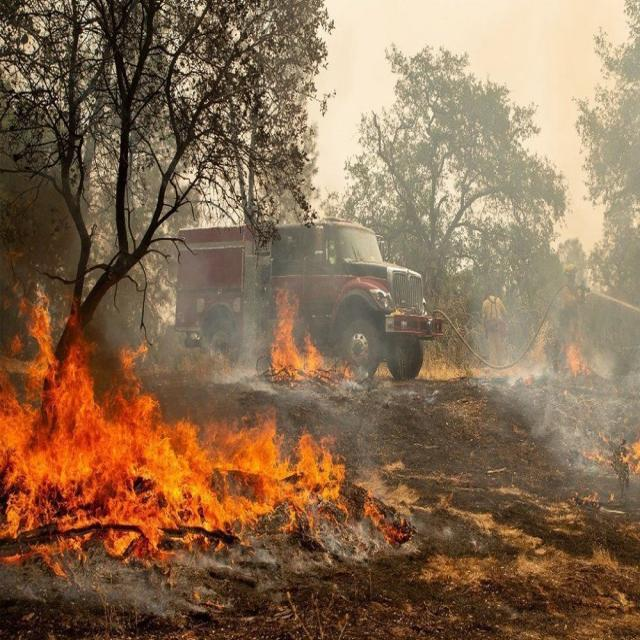Fire: (2, 294, 358, 562), (270, 284, 355, 384), (122, 330, 156, 375), (280, 507, 300, 534), (332, 503, 354, 526), (261, 414, 280, 436), (23, 358, 31, 397), (140, 332, 148, 356)
Smoke: (490, 338, 596, 473), (204, 311, 264, 388)
